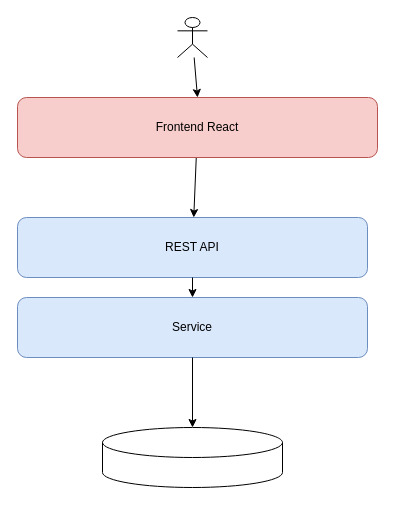
The diagram is 395 pixels wide and 505 high, and some of its shapes have lost their labels. Here are the shapes that lost their labels. From the top down, the centre of each, then its label:
the point at 192,37: Actor
the point at 192,457: Postgre s DB
